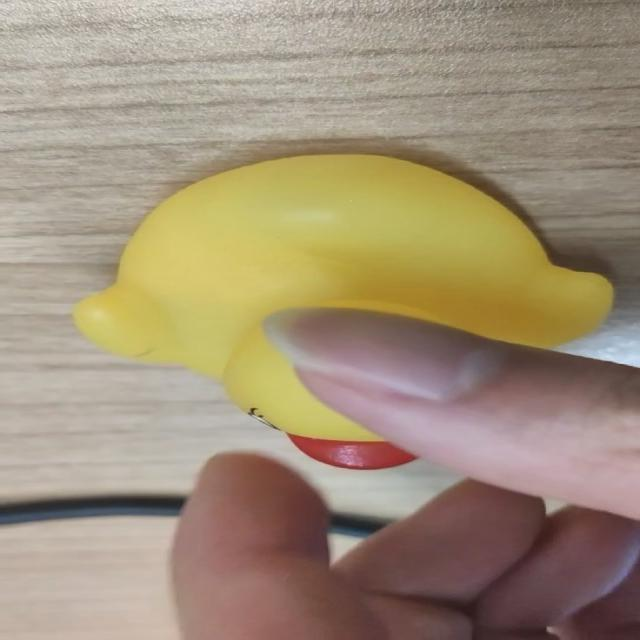rubber-duck: (72, 154, 611, 467)
